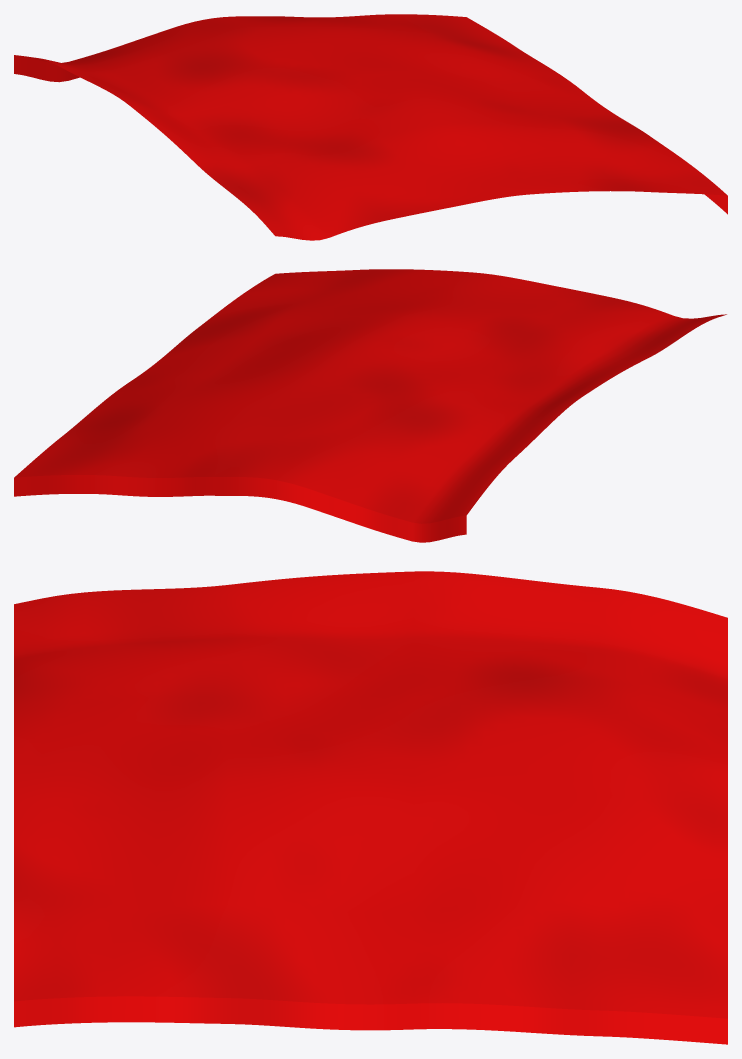
The model's file is terrain_3_3.glb.
3 views of the same model, one above another, from view 1: azimuth 30°, elevation 25°; view 2: azimuth 150°, elevation 25°; view 3: azimuth 270°, elevation 25° (orthographic). The views are drawn at different scales.
Parts seen in each view (by area): view 1: terrain_3_3.0, terrain_3_3.1; view 2: terrain_3_3.0, terrain_3_3.1; view 3: terrain_3_3.0, terrain_3_3.1.
Part boxes in pixels (x1=…): terrain_3_3.0: x1=18, y1=14, x2=727, y2=240; terrain_3_3.1: x1=14, y1=55, x2=727, y2=214; terrain_3_3.0: x1=14, y1=269, x2=726, y2=523; terrain_3_3.1: x1=14, y1=475, x2=466, y2=542; terrain_3_3.0: x1=14, y1=571, x2=727, y2=1018; terrain_3_3.1: x1=14, y1=996, x2=727, y2=1044.
Size of the model in its own units: 50 by 13.26 by 50.
